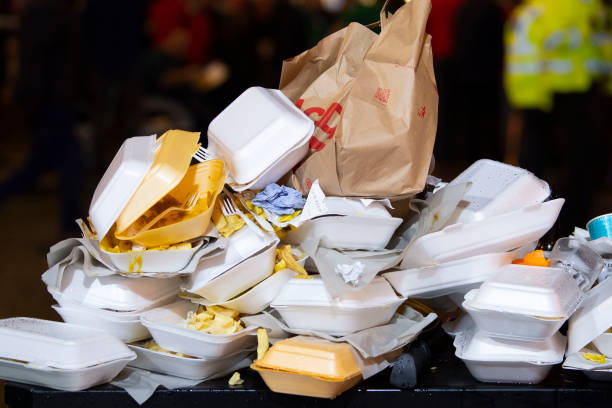styrofoam: (94, 128, 229, 247), (202, 80, 320, 194), (2, 309, 137, 393), (460, 263, 585, 346), (272, 273, 409, 339), (250, 336, 368, 399)
